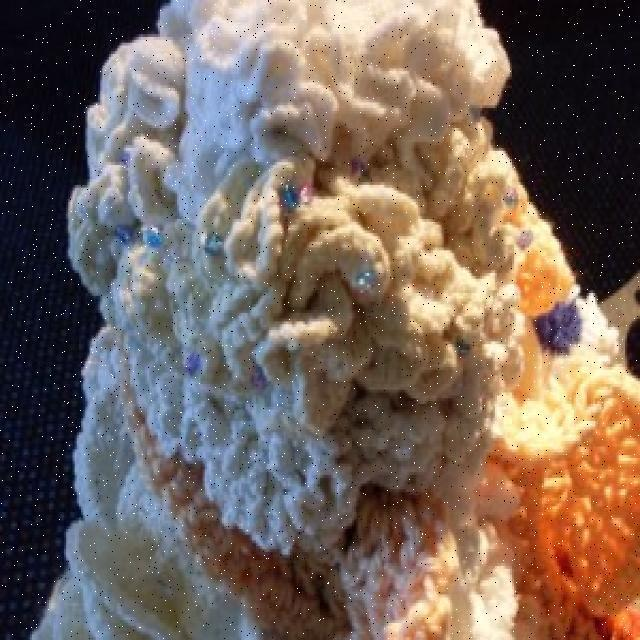Bleached: (69, 6, 522, 635), (526, 210, 640, 640)
